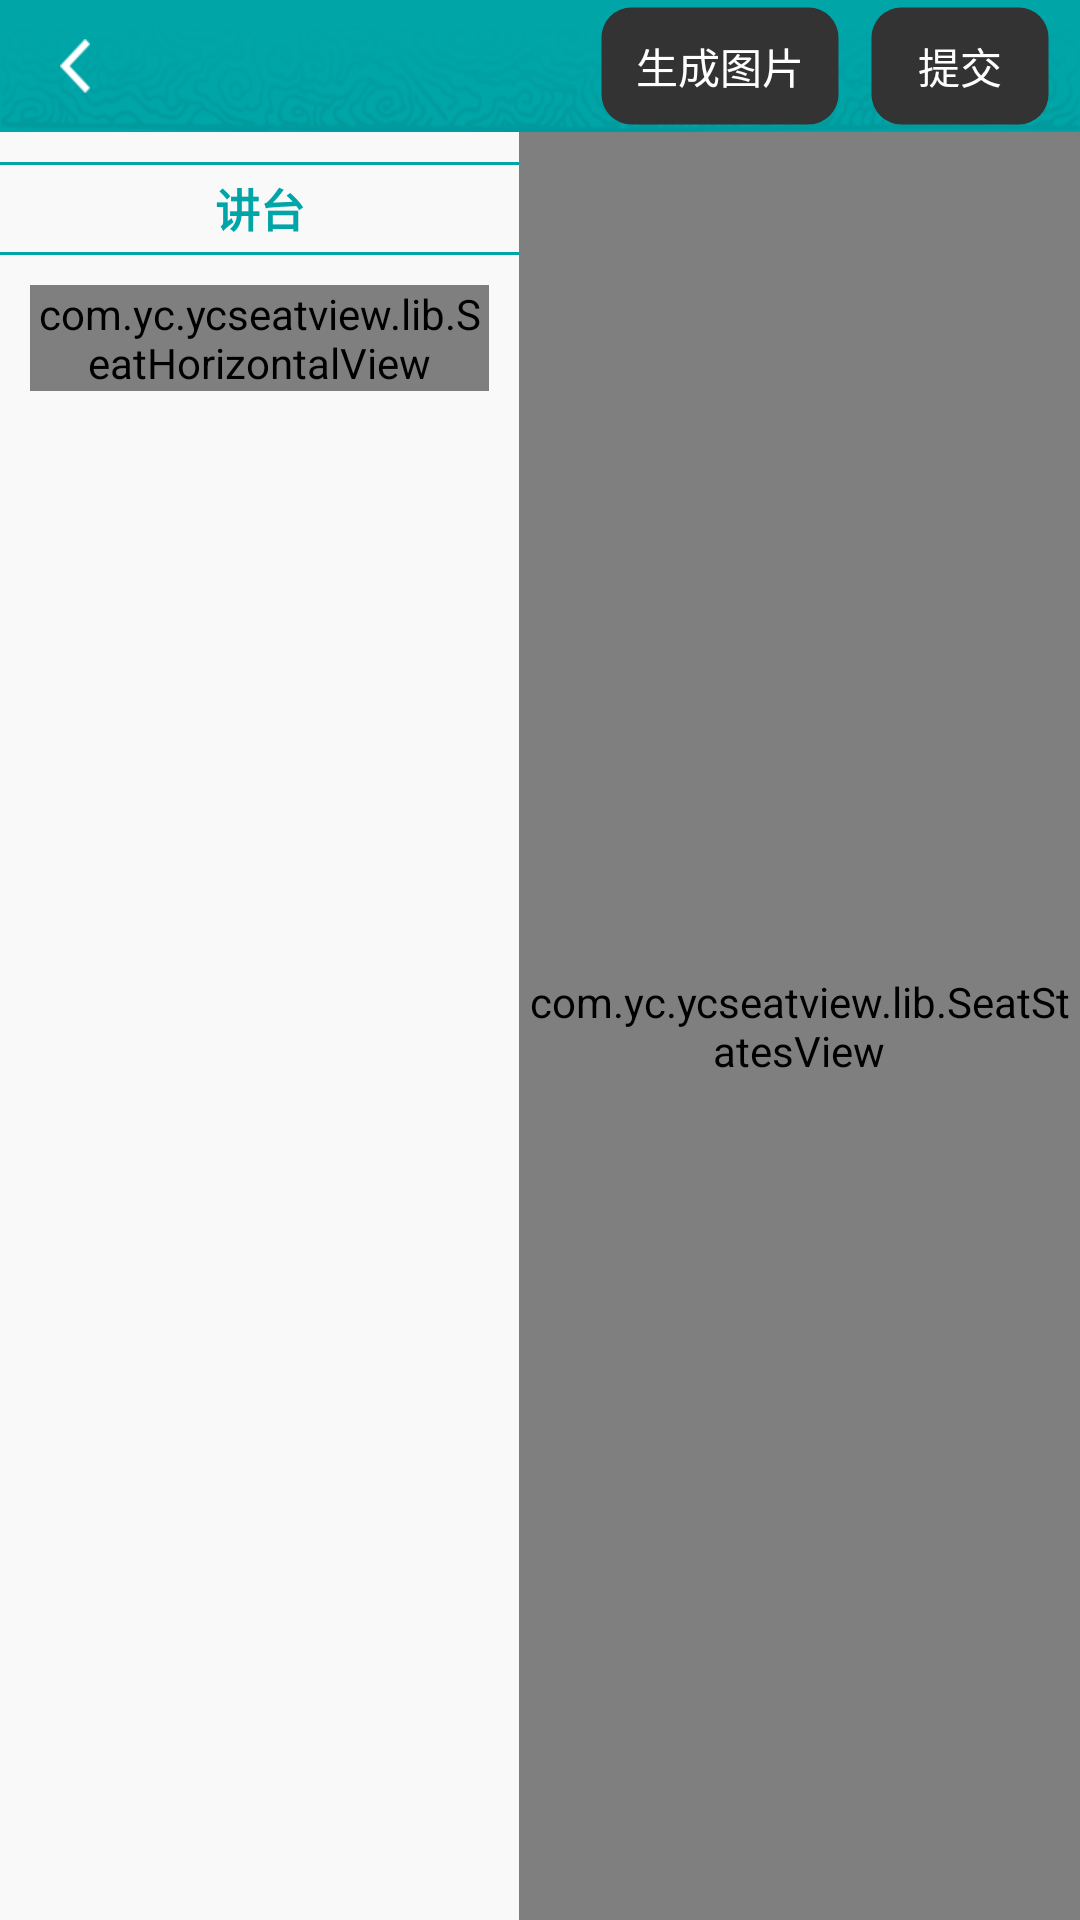

Where to tap for icons on this 1080 x 1920 app screen, as (x=x, y=y):
back arrow: (x=75, y=66)
